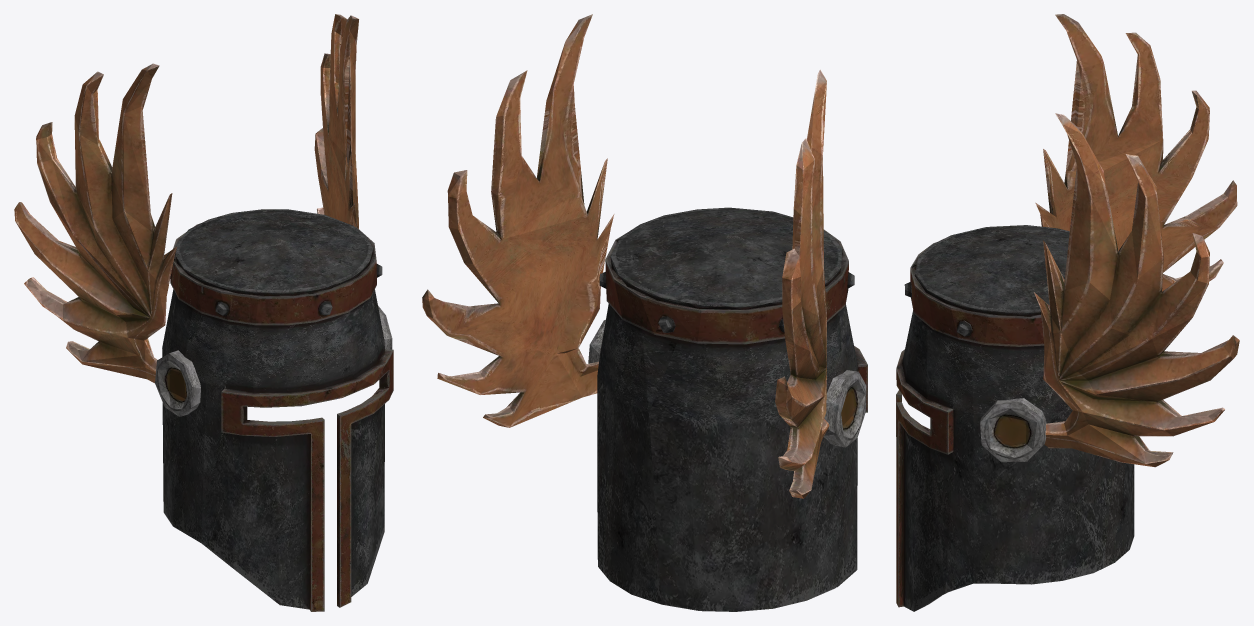
The model's file is RYCERZ3.glb.
The picture shows the model from 3 angles, left to right: view 1: azimuth 30°, elevation 25°; view 2: azimuth 150°, elevation 25°; view 3: azimuth 270°, elevation 25°; orthographic projection. The views are drawn at different scales.
Parts seen in each view (by area): view 1: RYCERZ3; view 2: RYCERZ3; view 3: RYCERZ3.
Part boxes in pixels (x1=…): RYCERZ3: x1=14, y1=14, x2=393, y2=611; RYCERZ3: x1=422, y1=14, x2=867, y2=611; RYCERZ3: x1=896, y1=14, x2=1239, y2=611.
Bounding box in the file's own units: 0.3878 × 0.6039 × 0.3516.
2 materials, 2 textured.
